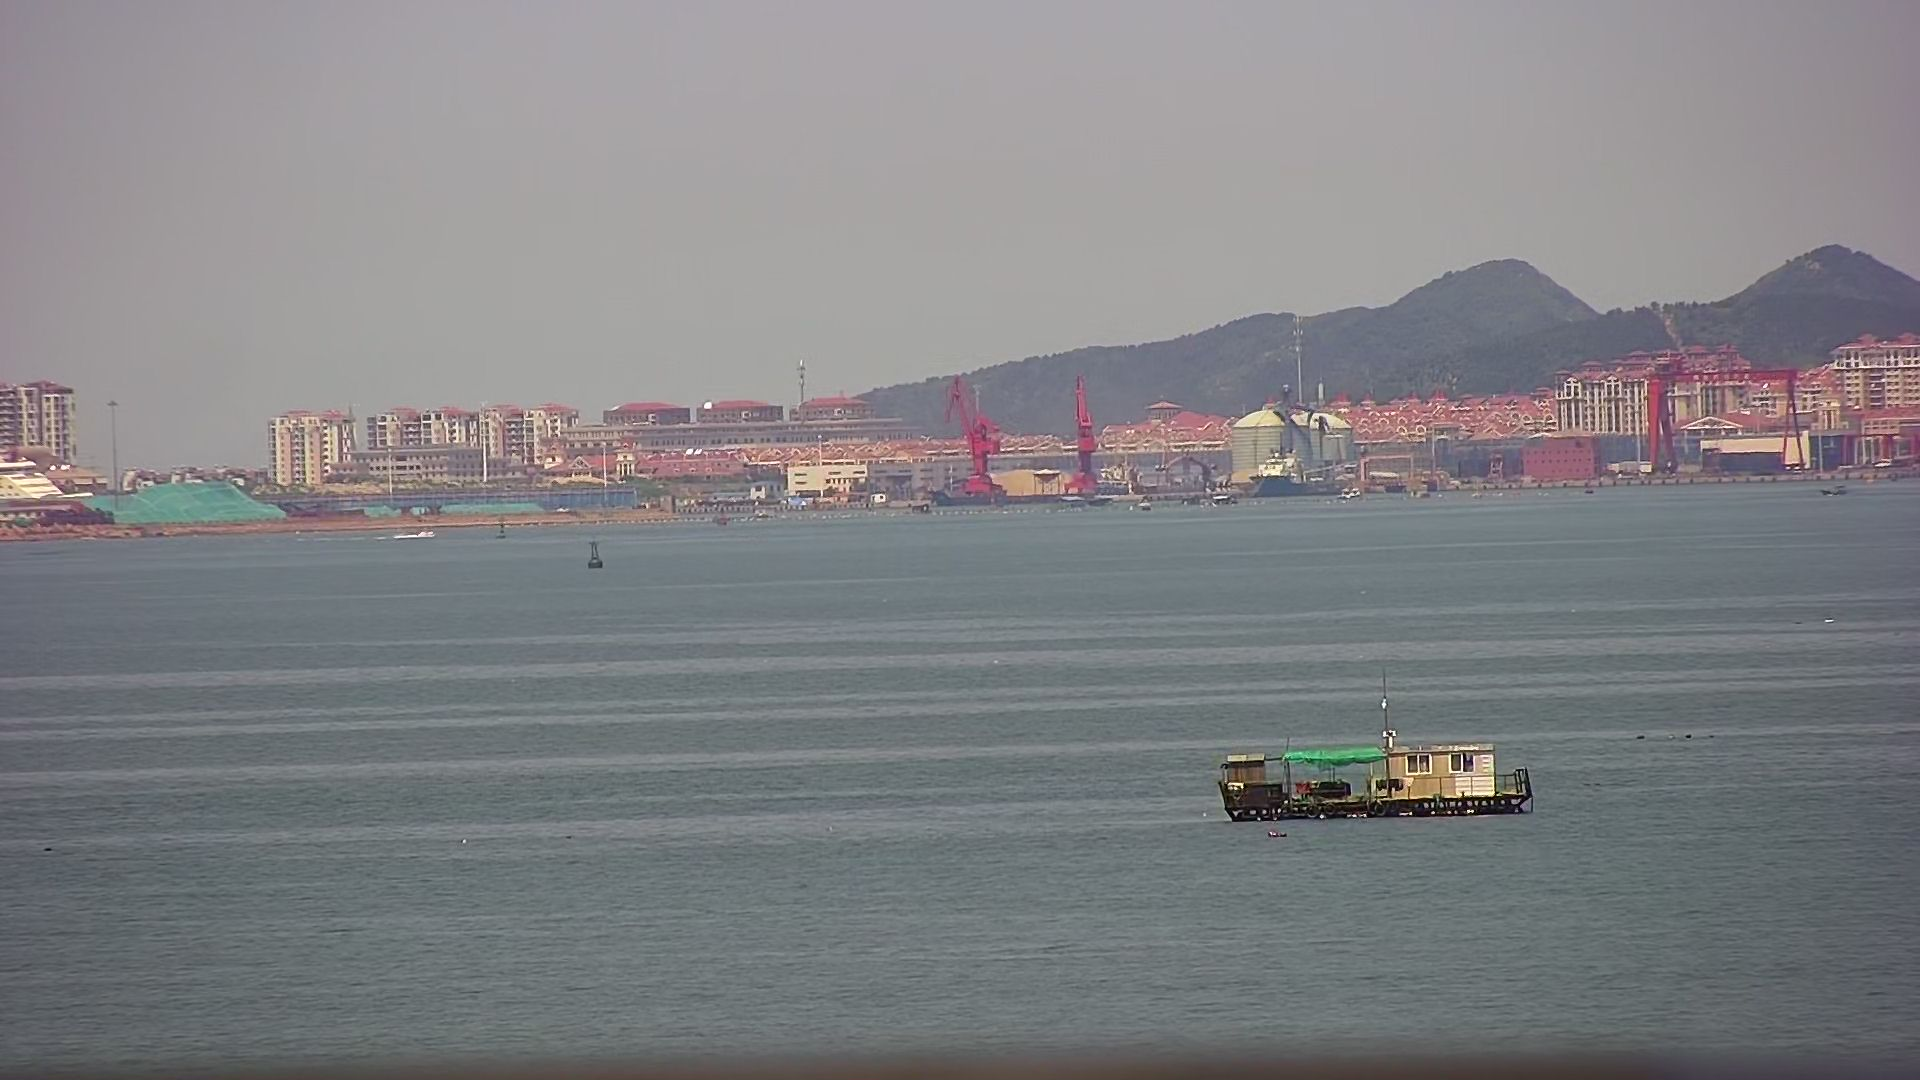buoy: (585, 539, 607, 574)
platform: (1218, 665, 1538, 827)
